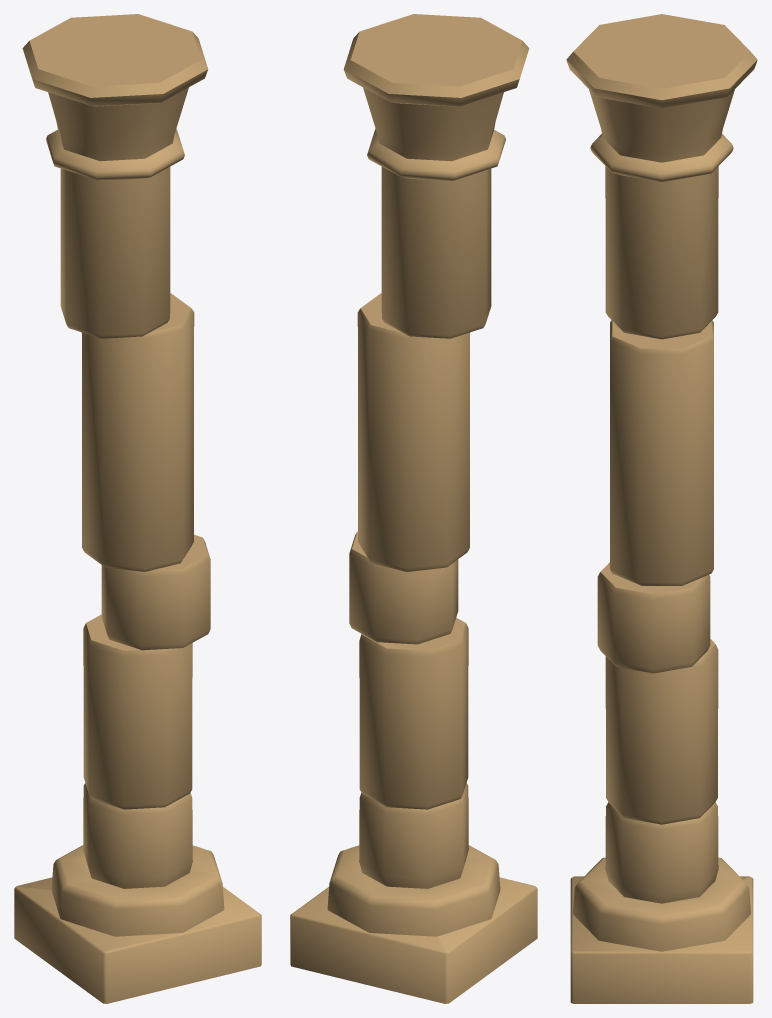
Rendered from PillarCrooked.fbx.
3 views of the same model, side by side, from view 1: azimuth 30°, elevation 25°; view 2: azimuth 150°, elevation 25°; view 3: azimuth 270°, elevation 25° (orthographic).
Visible parts, largest first — view 1: PillarCrooked; view 2: PillarCrooked; view 3: PillarCrooked.
Boxes of the visible parts, <box> form: PillarCrooked: <box>14,14,261,1003</box>; PillarCrooked: <box>290,14,537,1003</box>; PillarCrooked: <box>566,14,757,1003</box>.
Bounding box in the file's own units: 233 × 1093 × 210.
